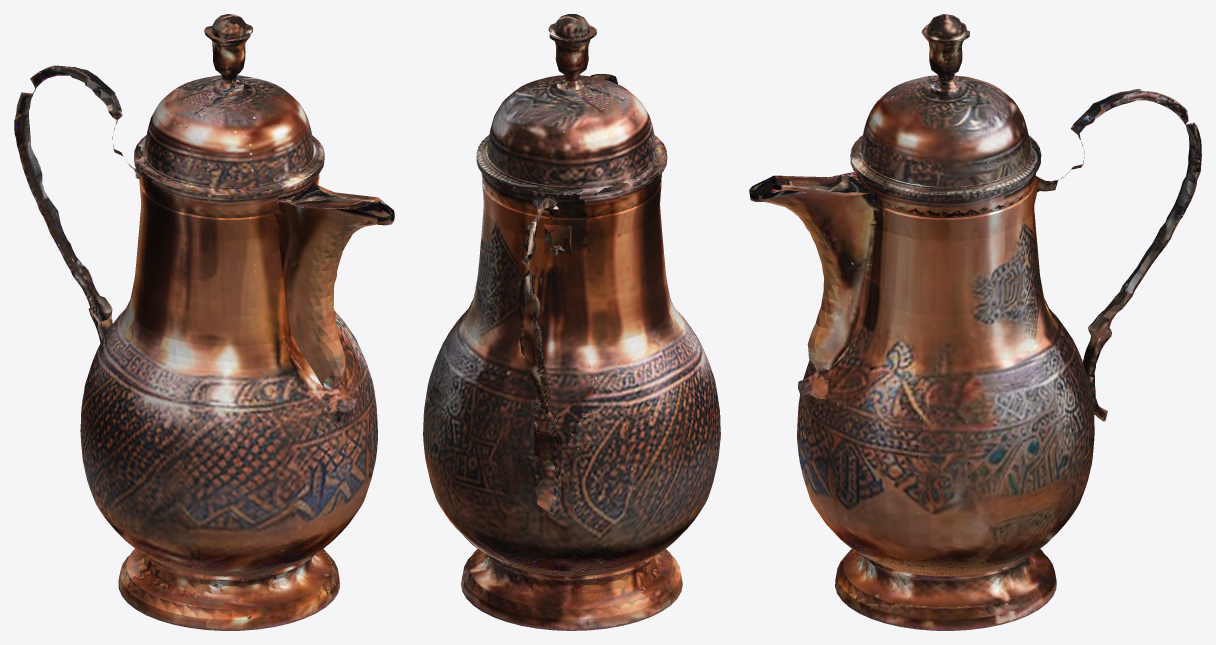
3 renders of one model, left to right at view 1: azimuth 30°, elevation 25°; view 2: azimuth 150°, elevation 25°; view 3: azimuth 270°, elevation 25°, orthographic.
Visible parts, largest first — view 1: mesh; view 2: mesh; view 3: mesh.
Boxes of the visible parts, x1,y1,x2,y2 form: mesh: [14, 14, 394, 630]; mesh: [423, 14, 720, 630]; mesh: [749, 14, 1201, 630].
Bounding box in the file's own units: 0.4048 × 0.851 × 0.6158.
1 material, 1 textured.
